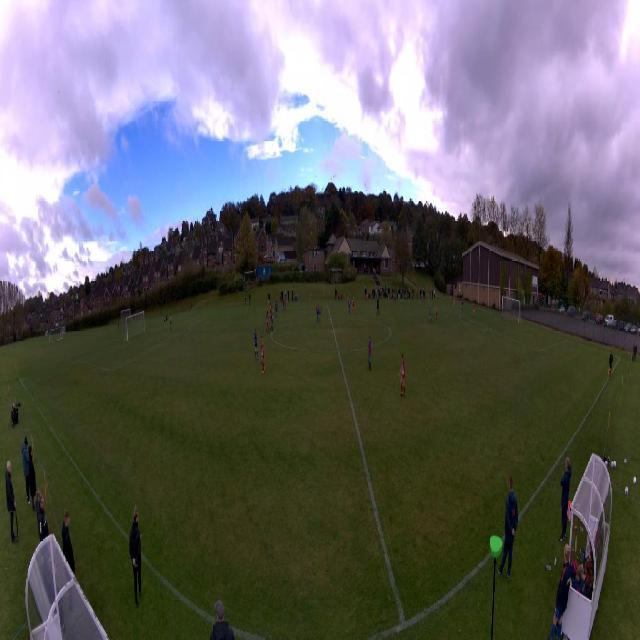ball: (419, 301, 420, 303)
player: (400, 353, 407, 398), (260, 335, 266, 375), (366, 334, 372, 370), (254, 328, 259, 360), (270, 308, 274, 332), (266, 312, 270, 333), (275, 300, 279, 320), (429, 305, 433, 324), (316, 304, 320, 323), (318, 304, 322, 323), (376, 298, 380, 316), (366, 289, 370, 303), (348, 297, 351, 315), (269, 302, 272, 320), (435, 305, 438, 322), (352, 297, 355, 313), (421, 290, 424, 306), (453, 295, 456, 310), (282, 297, 285, 312), (394, 292, 397, 306), (170, 314, 172, 330), (473, 303, 475, 319), (284, 296, 286, 312), (461, 298, 463, 312)
